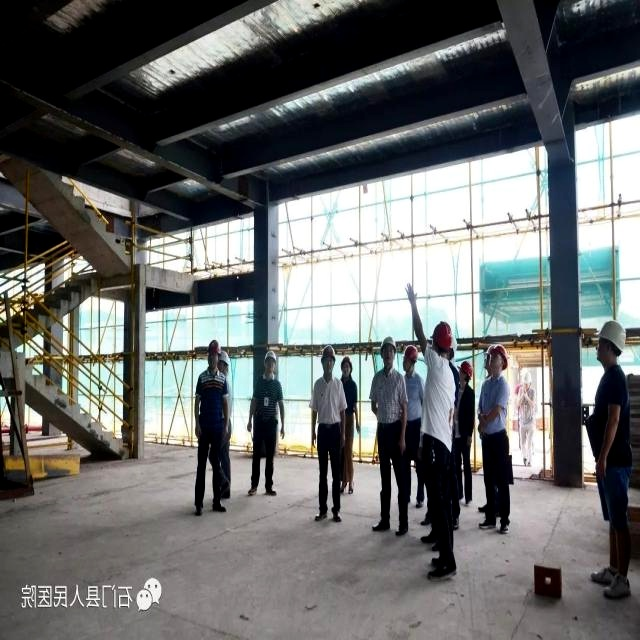Sin_Casco_Mascarrilla: (594, 321, 626, 365), (429, 320, 453, 356), (320, 346, 337, 375)
